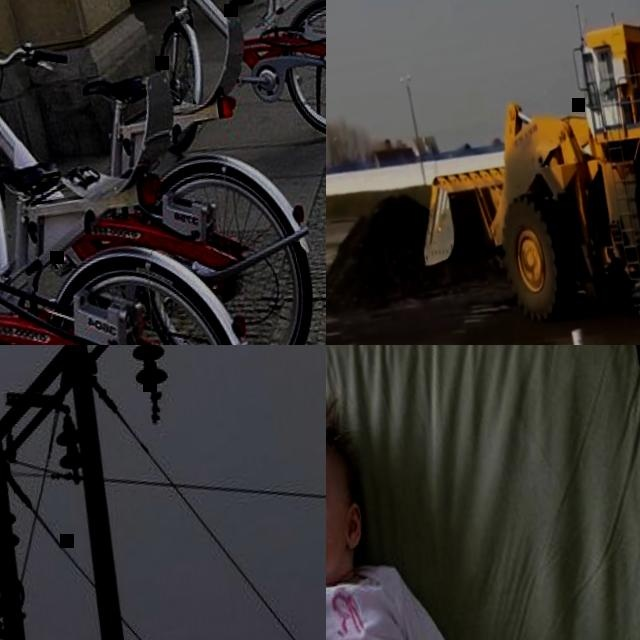NO-Hardhat: (326, 412, 352, 494)
NO-Safety Vest: (326, 567, 427, 640)
Person: (326, 382, 587, 640)
machinery: (387, 0, 640, 345)
